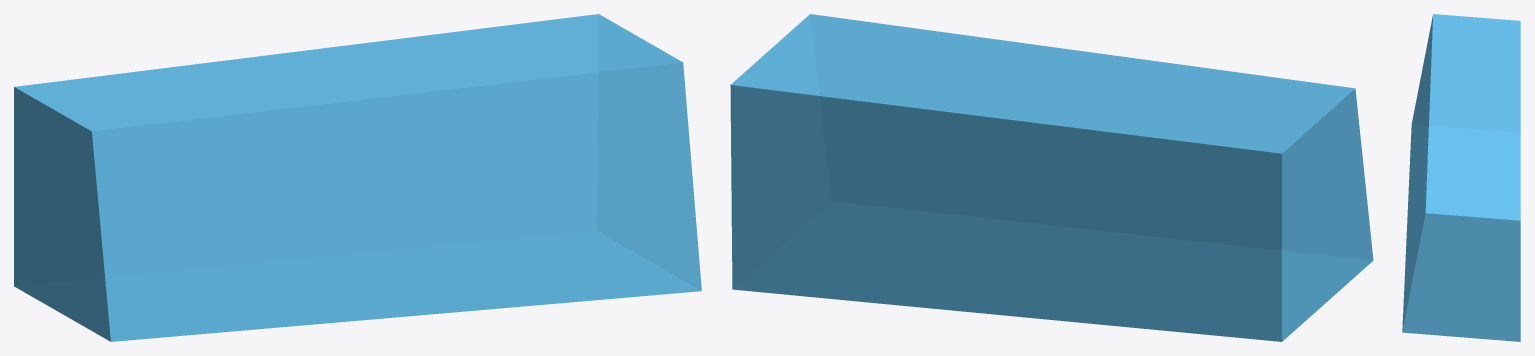
The model's file is Event_421127236_HErechit_21.fbx.
3 views of the same model, side by side, from view 1: azimuth 30°, elevation 25°; view 2: azimuth 150°, elevation 25°; view 3: azimuth 270°, elevation 25° (orthographic). The views are drawn at different scales.
Parts seen in each view (by area): view 1: Model; view 2: Model; view 3: Model.
Boxes of the visible parts, <box> form: Model: <box>14,14,701,341</box>; Model: <box>730,14,1373,341</box>; Model: <box>1402,14,1520,341</box>.
Size of the model in its own units: 0.8739 by 0.4263 by 0.2723.
